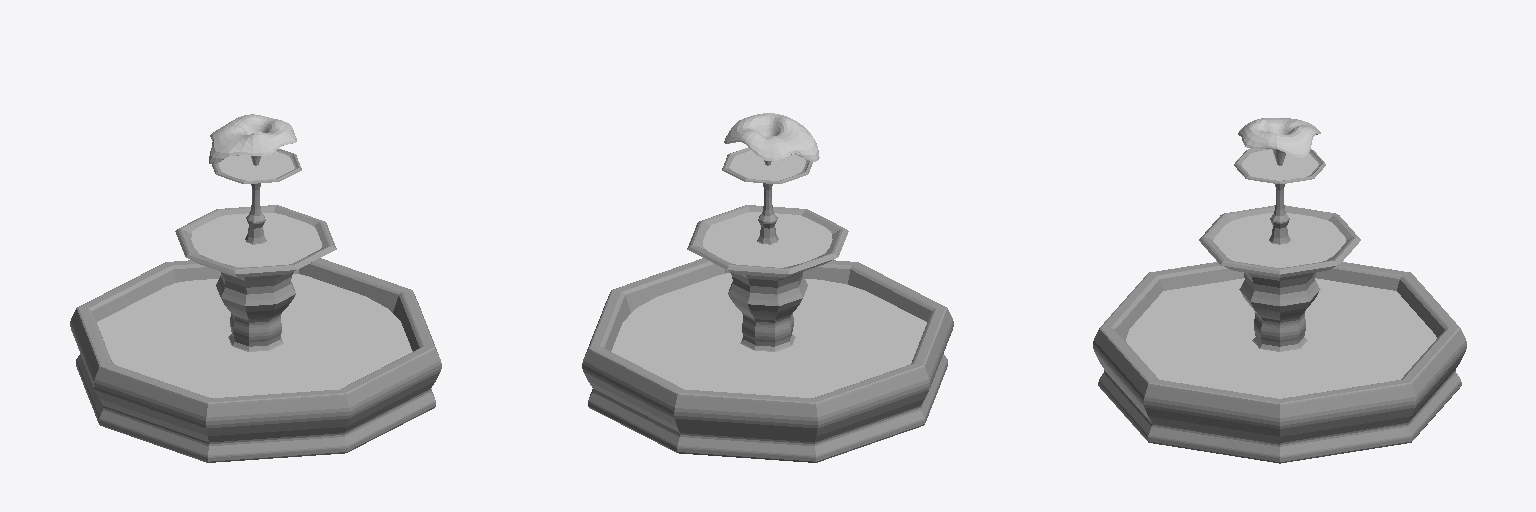
The model's file is fuente.obj.
3 renders of one model, left to right at view 1: azimuth 30°, elevation 25°; view 2: azimuth 150°, elevation 25°; view 3: azimuth 270°, elevation 25°, orthographic.
Parts seen in each view (by area): view 1: Cube.001, Cylinder; view 2: Cube.001, Cylinder; view 3: Cube.001, Cylinder.
Boxes of the visible parts, x1,y1,x2,y2 form: Cube.001: [70, 149, 441, 462]; Cylinder: [97, 114, 412, 397]; Cube.001: [582, 147, 953, 462]; Cylinder: [611, 113, 926, 397]; Cube.001: [1093, 149, 1466, 463]; Cylinder: [1126, 118, 1436, 398].
Bounding box in the file's own units: 187 × 145 × 187.